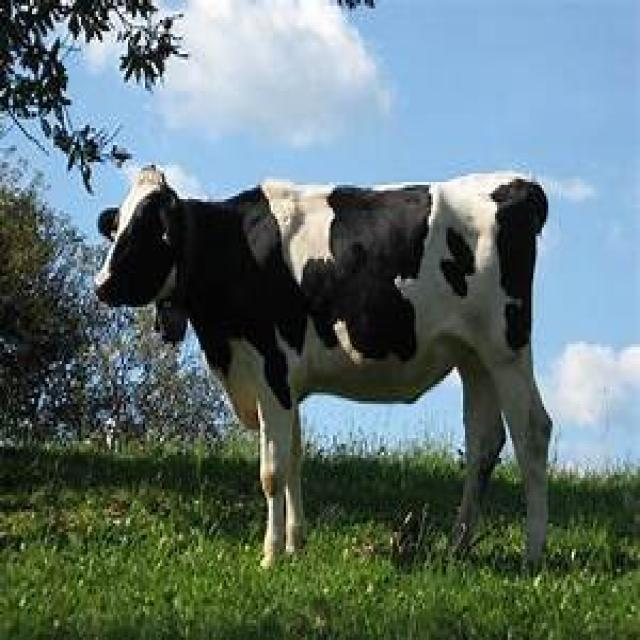cow: (92, 159, 552, 575)
